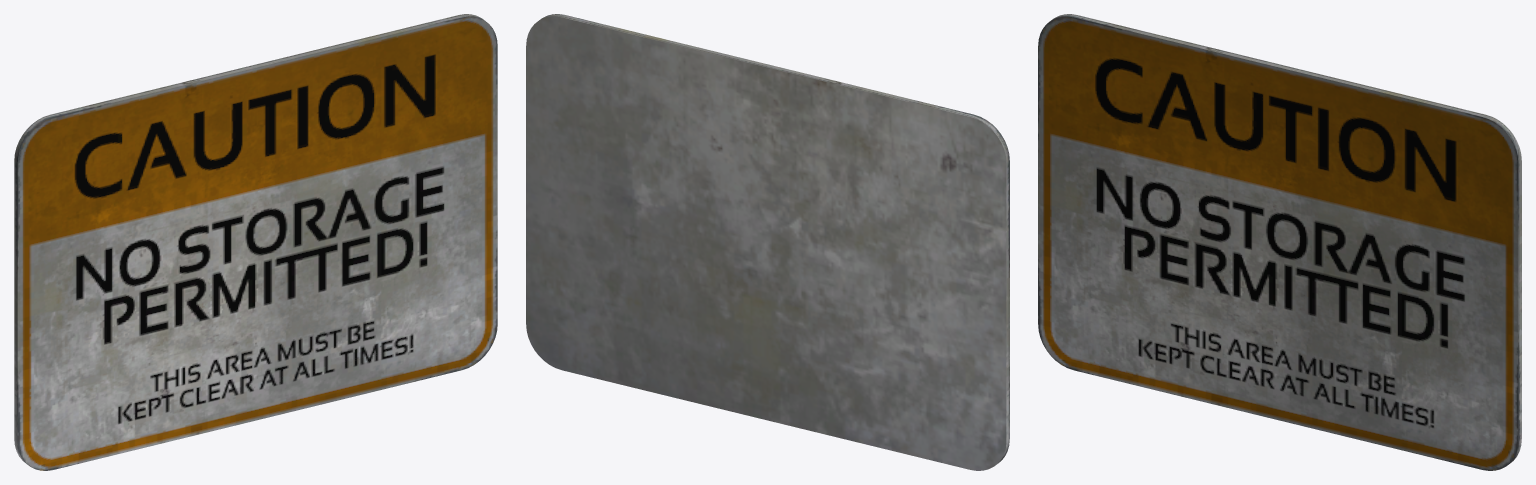
The model's file is sign_warning_nostorage.dae.
3 views of the same model, side by side, from view 1: azimuth 30°, elevation 25°; view 2: azimuth 150°, elevation 25°; view 3: azimuth 330°, elevation 25° (orthographic).
Visible parts, largest first — view 1: sign_warning_nostorage; view 2: sign_warning_nostorage; view 3: sign_warning_nostorage.
Part boxes in pixels (left/top/right/bottom): sign_warning_nostorage: left=14, top=14, right=497, bottom=470; sign_warning_nostorage: left=526, top=14, right=1009, bottom=470; sign_warning_nostorage: left=1038, top=14, right=1521, bottom=470.
Size of the model in its own units: 0.3985 by 0.2798 by 0.00488.
